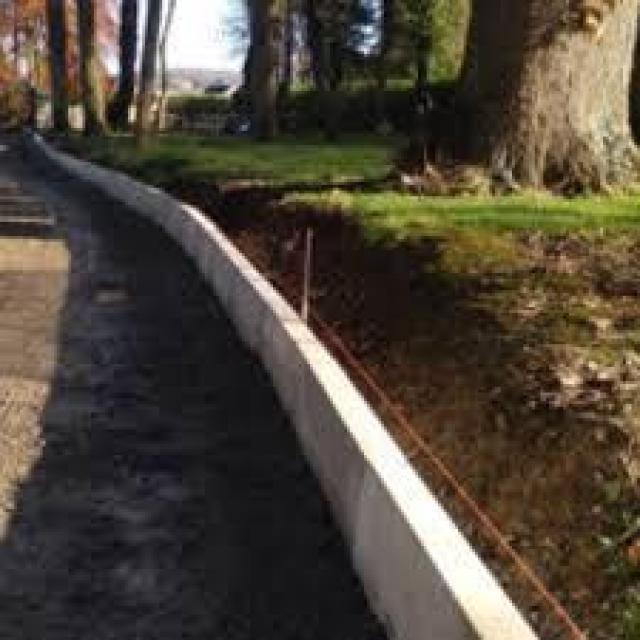curb: (357, 451, 546, 633), (297, 357, 394, 549), (265, 314, 336, 429)
